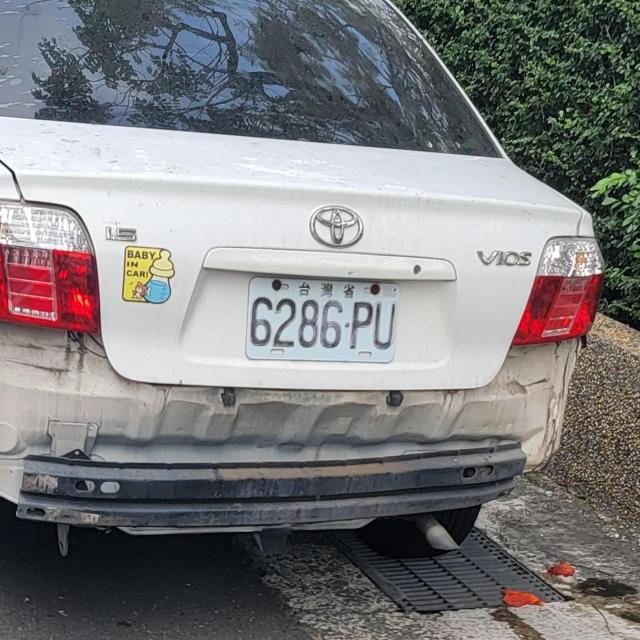W: (241, 269, 402, 370)
